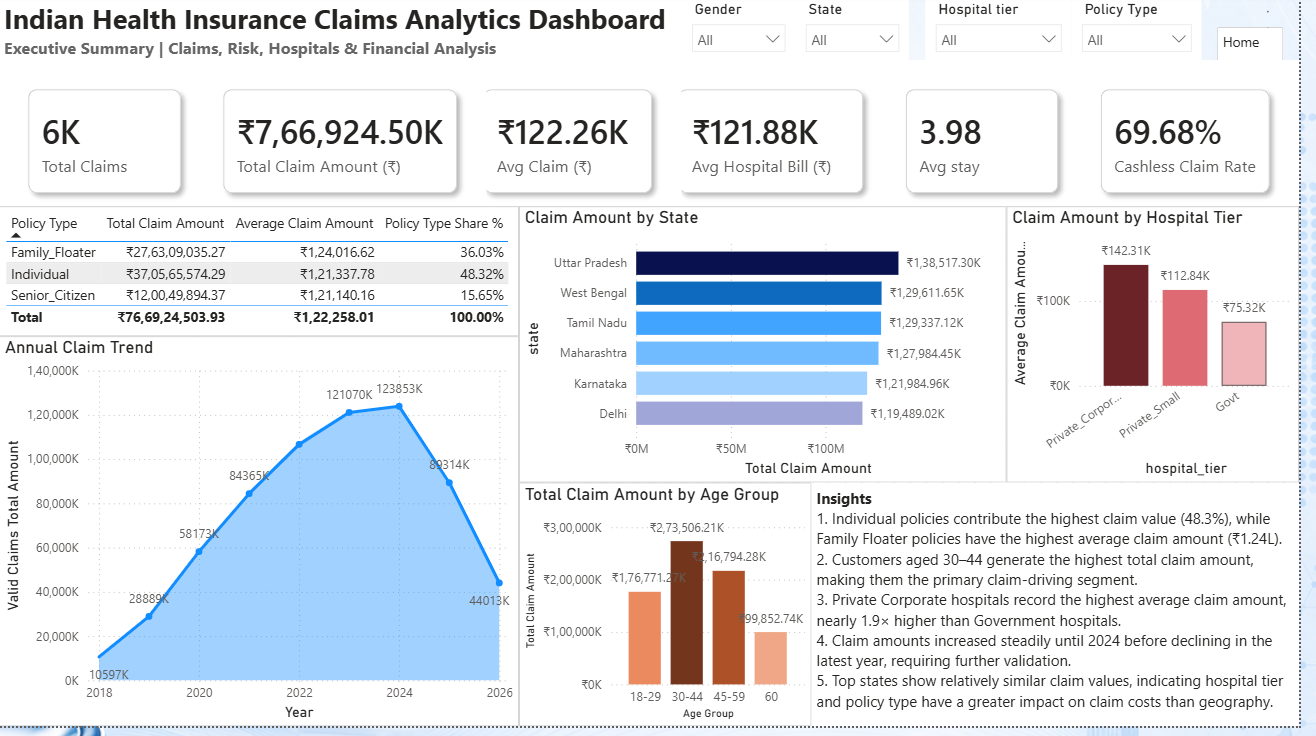

What the dashboard file says about the page in this screenshot:
{"tool":"powerbi","page":{"name":"Page 1","canvas":[1280,720],"ordinal":0},"visuals":[{"type":"textbox","box":[0,0,736,80],"z":0},{"type":"cardVisual","fields":{"Data":["indian_health_insurance_claims_dataset.Total Claims"]},"box":[0,64,208,160],"z":1000},{"type":"cardVisual","fields":{"Data":["indian_health_insurance_claims_dataset.Cashless Claim Rate"]},"box":[1056,64,224,160],"z":2000},{"type":"cardVisual","fields":{"Data":["indian_health_insurance_claims_dataset.Average Length of Stay"]},"box":[864,64,208,160],"z":3000},{"type":"cardVisual","fields":{"Data":["indian_health_insurance_claims_dataset.Average Hospital Bill"]},"box":[640,64,240,160],"z":4000},{"type":"cardVisual","fields":{"Data":["indian_health_insurance_claims_dataset.Average Claim Amount"]},"box":[448,64,224,160],"z":5000},{"type":"cardVisual","fields":{"Data":["indian_health_insurance_claims_dataset.Total Claim Amount"]},"box":[192,64,288,160],"z":6000},{"type":"slicer","fields":{"Values":["indian_health_insurance_claims_dataset.state"]},"box":[784,0,112,64],"z":7000},{"type":"slicer","fields":{"Values":["indian_health_insurance_claims_dataset.policy_type"]},"box":[1056,0,128,64],"z":8000},{"type":"slicer","fields":{"Values":["indian_health_insurance_claims_dataset.gender"]},"box":[672,0,112,64],"z":10000},{"type":"slicer","fields":{"Values":["indian_health_insurance_claims_dataset.hospital_tier"]},"box":[912,0,144,64],"z":11000},{"type":"lineChart","title":"Annual Claim Trend","fields":{"Category":["indian_health_insurance_claims_dataset.claim_date.Variation.Date Hierarchy.Year"],"Y":["indian_health_insurance_claims_dataset.Valid Claims Total Amount"]},"box":[0,208,480,256],"z":12000},{"type":"tableEx","title":"Claim Amount by Policy Type","fields":{"Values":["indian_health_insurance_claims_dataset.policy_type","indian_health_insurance_claims_dataset.Total Claim Amount","indian_health_insurance_claims_dataset.Average Claim Amount","indian_health_insurance_claims_dataset.Policy Type Share %"]},"box":[112,464,512,128],"z":13000},{"type":"clusteredColumnChart","title":"Claim Amount by Hospital Tier","fields":{"Category":["indian_health_insurance_claims_dataset.hospital_tier"],"Y":["indian_health_insurance_claims_dataset.Average Claim Amount"]},"box":[1008,208,272,272],"z":14000},{"type":"columnChart","fields":{"Category":["indian_health_insurance_claims_dataset.Age Group"],"Y":["indian_health_insurance_claims_dataset.Total Claim Amount"]},"box":[624,464,256,256],"z":15000},{"type":"barChart","title":"Claim Amount by State","fields":{"Category":["indian_health_insurance_claims_dataset.state"],"Y":["indian_health_insurance_claims_dataset.Total Claim Amount"]},"box":[480,208,528,256],"z":16000},{"type":"textbox","box":[880,464,400,256],"z":19000}]}

Visuals, with their boxes in screenshot pixels (x1, y1, x2, y2), scaled from the page's 1280x720 canvas onto the 1316x736 screenshot:
textbox: [0,0,757,82]
cardVisual - indian_health_insurance_claims_dataset.Total Claims: [0,65,214,229]
cardVisual - indian_health_insurance_claims_dataset.Cashless Claim Rate: [1086,65,1315,229]
cardVisual - indian_health_insurance_claims_dataset.Average Length of Stay: [888,65,1102,229]
cardVisual - indian_health_insurance_claims_dataset.Average Hospital Bill: [658,65,905,229]
cardVisual - indian_health_insurance_claims_dataset.Average Claim Amount: [461,65,691,229]
cardVisual - indian_health_insurance_claims_dataset.Total Claim Amount: [197,65,494,229]
slicer - indian_health_insurance_claims_dataset.state: [806,0,921,65]
slicer - indian_health_insurance_claims_dataset.policy_type: [1086,0,1217,65]
slicer - indian_health_insurance_claims_dataset.gender: [691,0,806,65]
slicer - indian_health_insurance_claims_dataset.hospital_tier: [938,0,1086,65]
"Annual Claim Trend" lineChart: [0,213,494,474]
"Claim Amount by Policy Type" tableEx: [115,474,642,605]
"Claim Amount by Hospital Tier" clusteredColumnChart: [1036,213,1315,491]
columnChart - indian_health_insurance_claims_dataset.Age Group x indian_health_insurance_claims_dataset.Total Claim Amount: [642,474,905,735]
"Claim Amount by State" barChart: [494,213,1036,474]
textbox: [905,474,1315,735]
